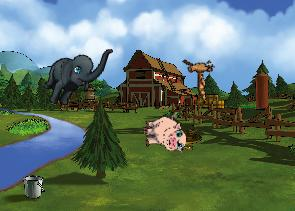eagle: (171, 46, 229, 104)
elephant: (39, 33, 113, 116)
pig: (143, 114, 186, 154)
